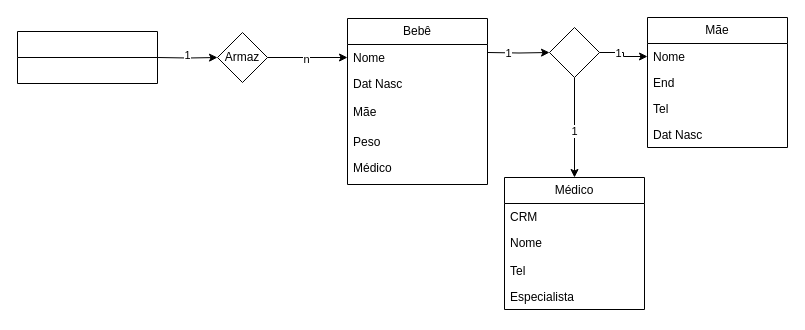
This 805x330 diagram has some shape labels left out. The shapes that lost their labels are listed below. From the top down, each one's centre as x and y in pixels, then its label:
At (x=87, y=57): "Berçario".
At (x=574, y=52): "Compra".
